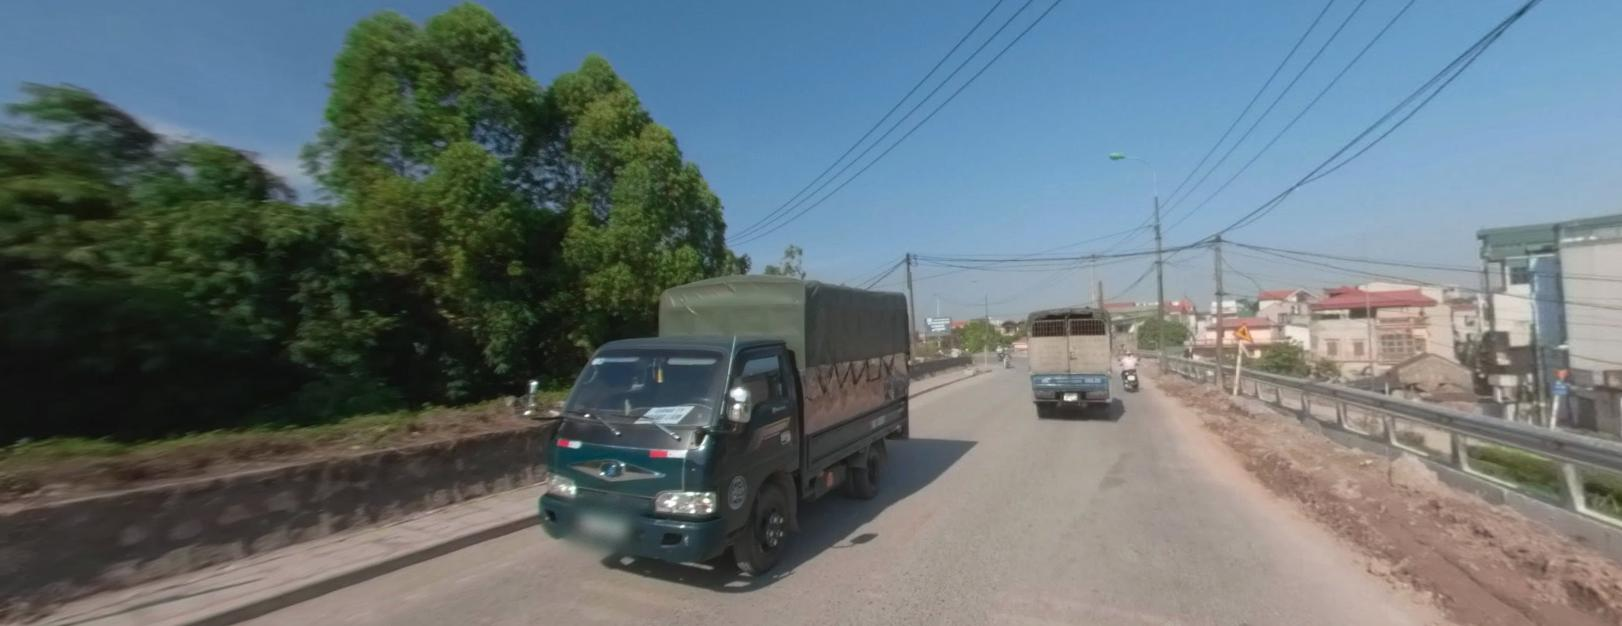Nguy hiem: (1232, 321, 1254, 341)
